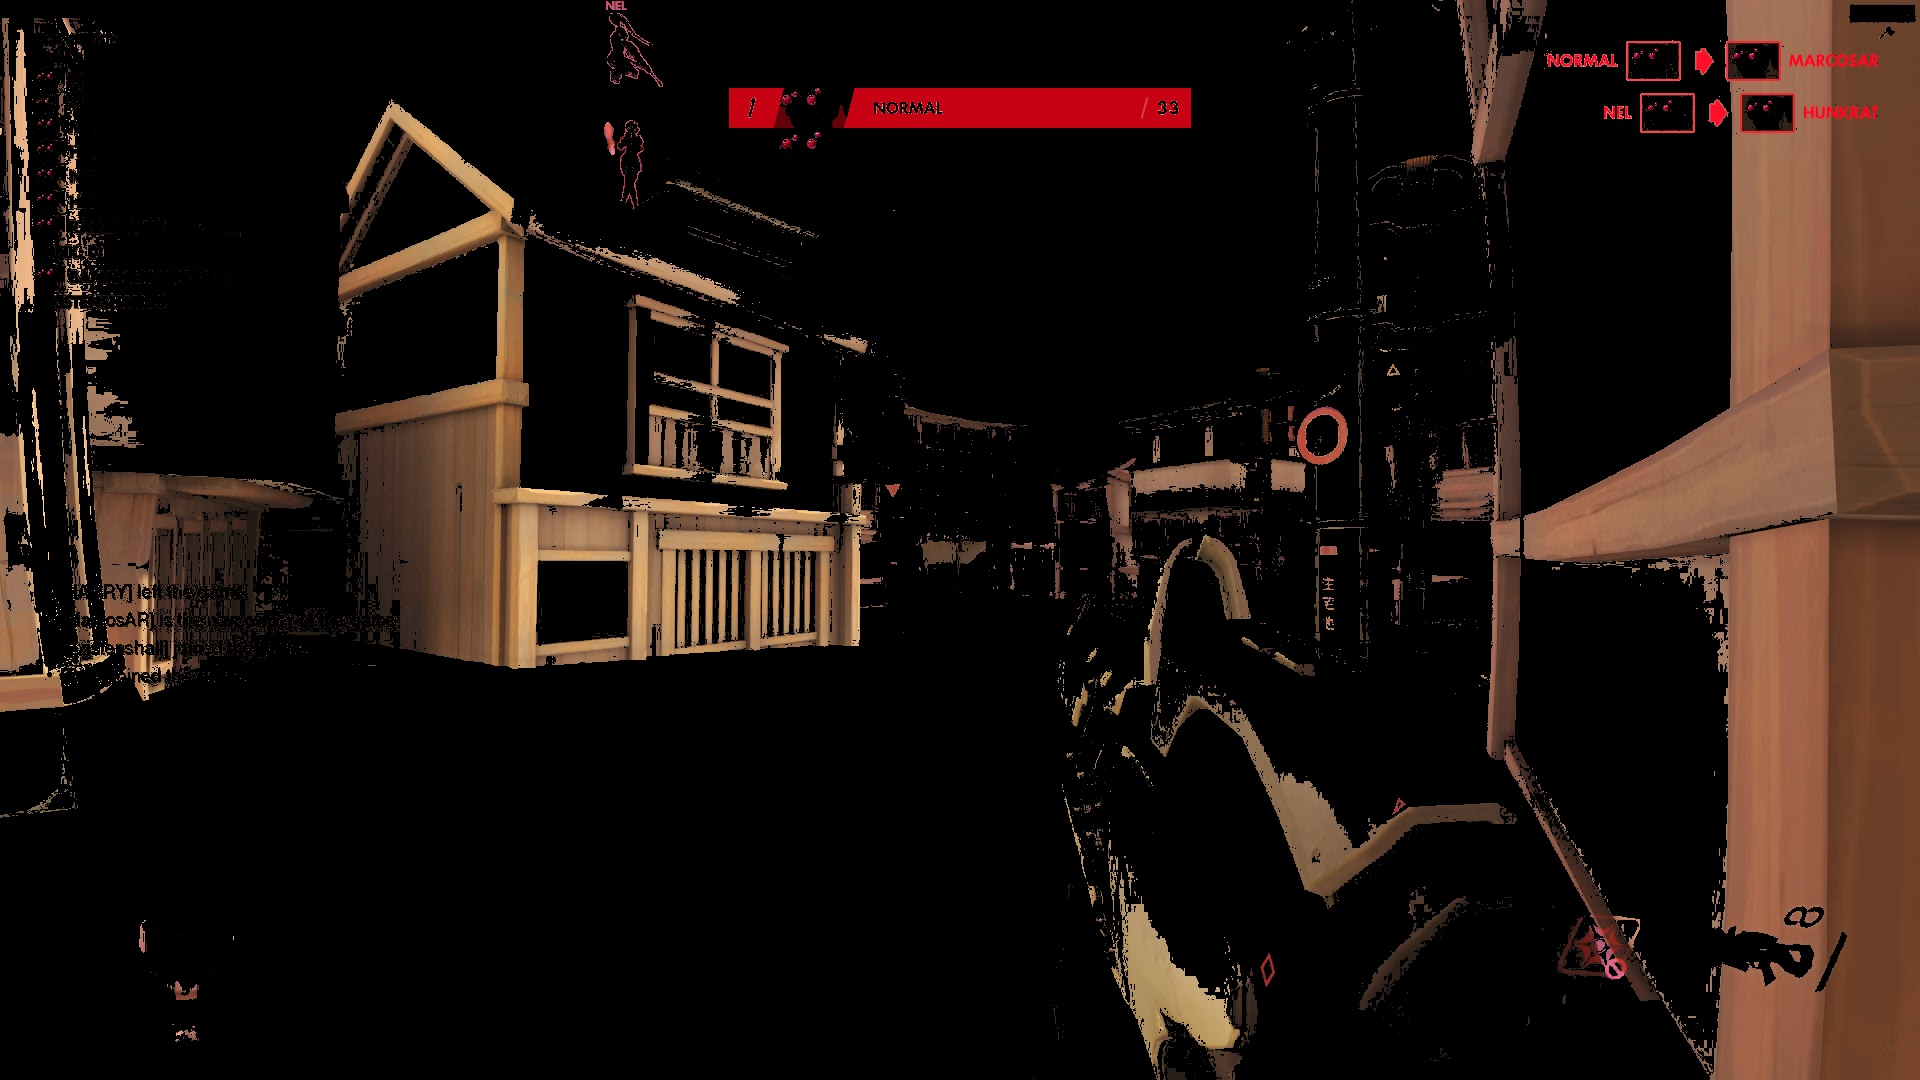widowmaker: (601, 11, 658, 94), (611, 113, 651, 225)
